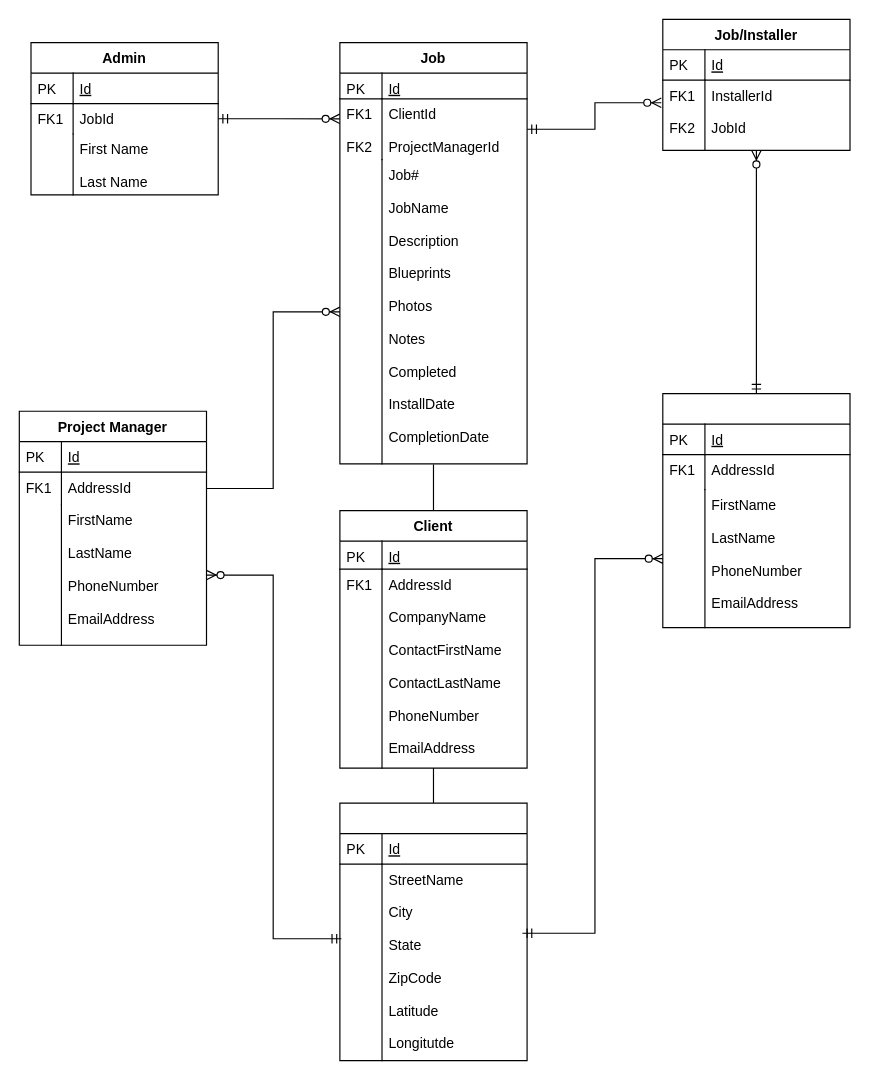
Image size: 869x1080. Some labels were removed from this diagram. Each missing label, with the box of its shape:
Address: (339, 802, 527, 1061)
Installer: (662, 393, 850, 628)
